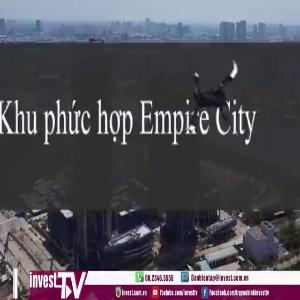drone: (161, 50, 256, 145)
